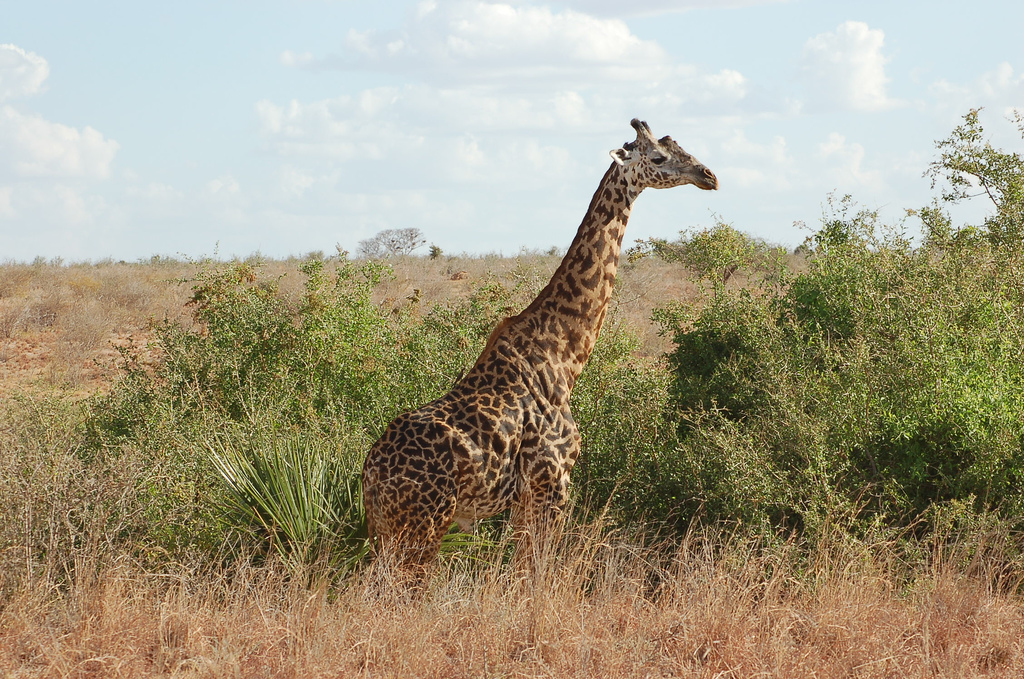giraffe: (338, 114, 758, 590)
